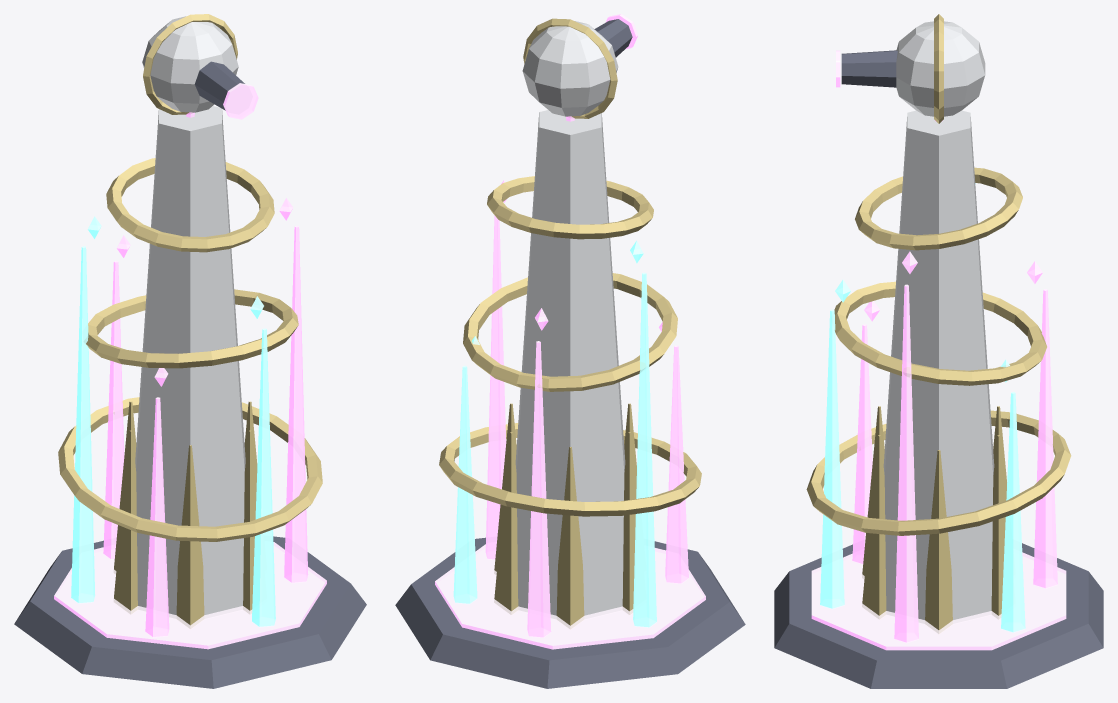
The model's file is F2_AntiGravWaterfallSpire.glb.
3 renders of one model, left to right at view 1: azimuth 30°, elevation 25°; view 2: azimuth 150°, elevation 25°; view 3: azimuth 270°, elevation 25°, orthographic.
Parts seen in each view (by area): view 1: F2_AntiGravWaterfallSpire; view 2: F2_AntiGravWaterfallSpire; view 3: F2_AntiGravWaterfallSpire.
Part boxes in pixels (bbox=[...]): F2_AntiGravWaterfallSpire: bbox=[14, 14, 366, 688]; F2_AntiGravWaterfallSpire: bbox=[395, 14, 745, 688]; F2_AntiGravWaterfallSpire: bbox=[774, 14, 1103, 688].
Size of the model in its own units: 4.07 by 8.18 by 4.07.
